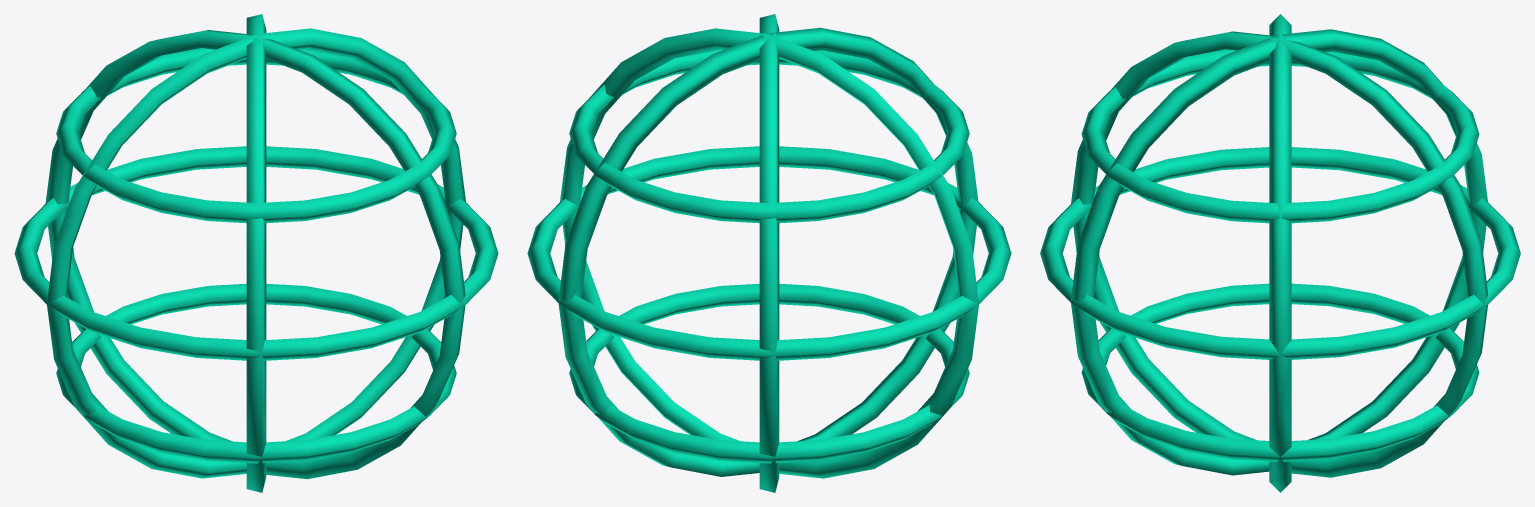
File: pn_ico_globo.glb
3 views of the same model, side by side, from view 1: azimuth 30°, elevation 25°; view 2: azimuth 150°, elevation 25°; view 3: azimuth 270°, elevation 25° (orthographic).
Parts seen in each view (by area): view 1: pn_ico_globo; view 2: pn_ico_globo; view 3: pn_ico_globo.
Part boxes in pixels (x1,y1,x2,y2): pn_ico_globo: (14, 14, 498, 492); pn_ico_globo: (527, 14, 1011, 492); pn_ico_globo: (1040, 14, 1520, 492).
Size of the model in its own units: 0.58 by 0.58 by 0.58.
